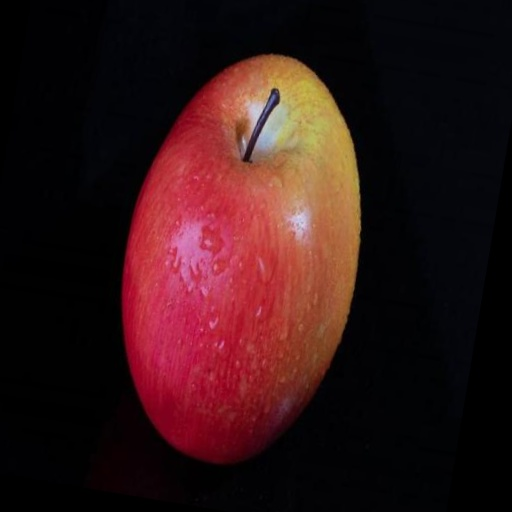fruit: (121, 55, 359, 462)
